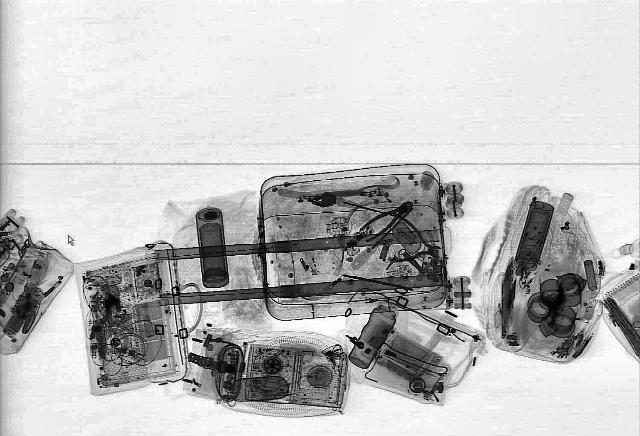Pliers: (369, 216, 456, 272), (350, 196, 420, 244)
